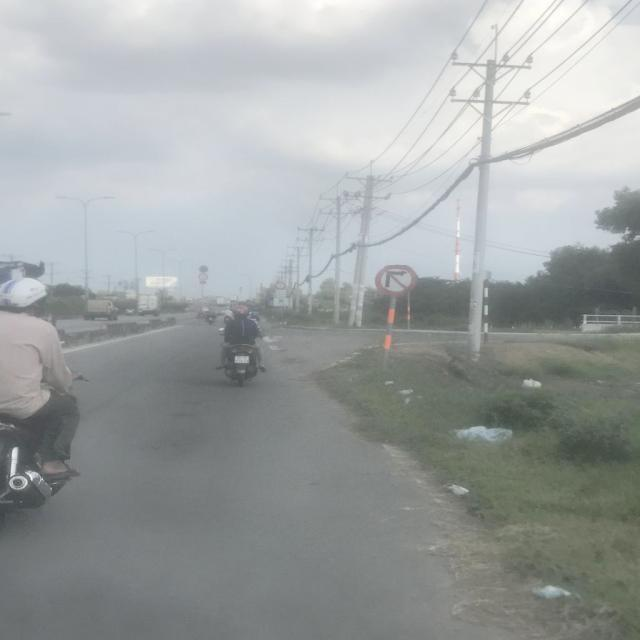107-cam-oto-khach-va-oto-tai: (276, 282, 286, 289)
